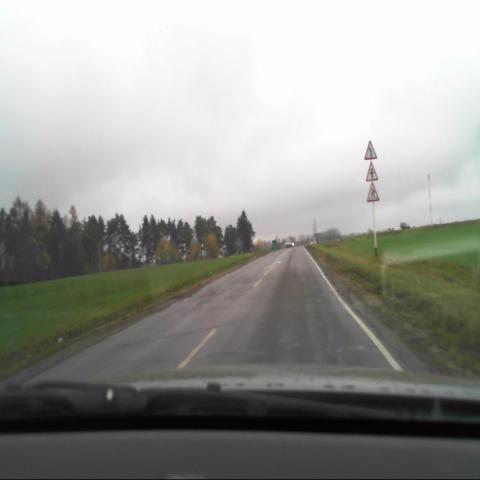2_3: (365, 163, 379, 181)
